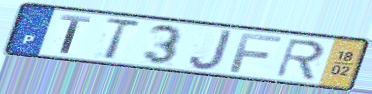3: (141, 24, 186, 66)
F: (228, 31, 286, 74)
J: (187, 28, 235, 72)
R: (273, 37, 327, 82)
T: (102, 17, 143, 62), (58, 13, 93, 56)
